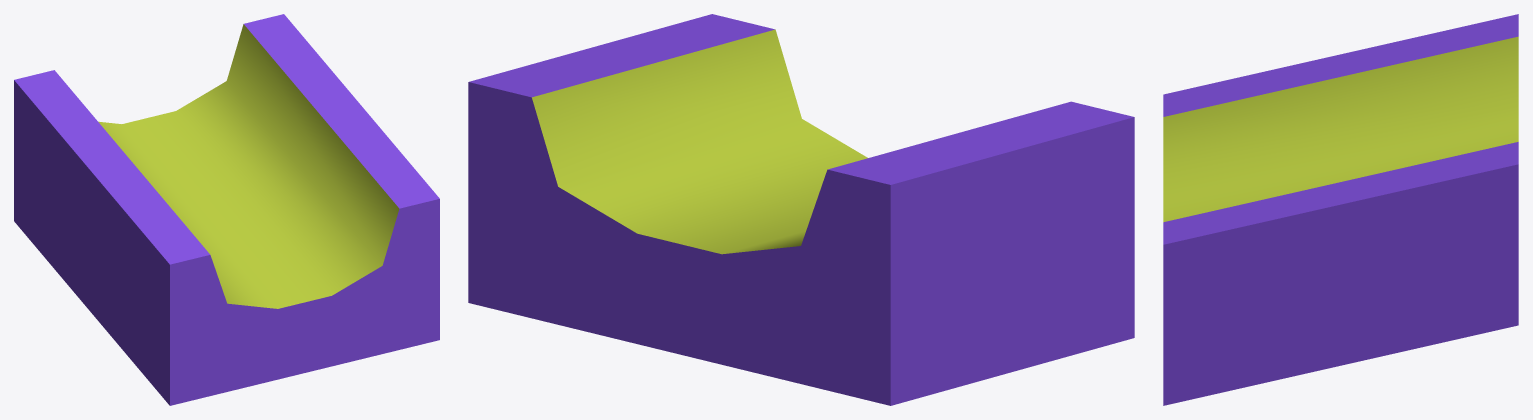
File: slant_A-col.dae
3 renders of one model, left to right at view 1: azimuth 30°, elevation 25°; view 2: azimuth 150°, elevation 25°; view 3: azimuth 270°, elevation 25°, orthographic. The views are drawn at different scales.
Parts seen in each view (by area): view 1: slant_A-col; view 2: slant_A-col; view 3: slant_A-col.
Boxes of the visible parts, left/top/right/bottom form: slant_A-col: left=14, top=14, right=439, bottom=405; slant_A-col: left=468, top=14, right=1134, bottom=405; slant_A-col: left=1163, top=14, right=1518, bottom=405.
Bounding box in the file's own units: 1 × 1 × 0.75.
